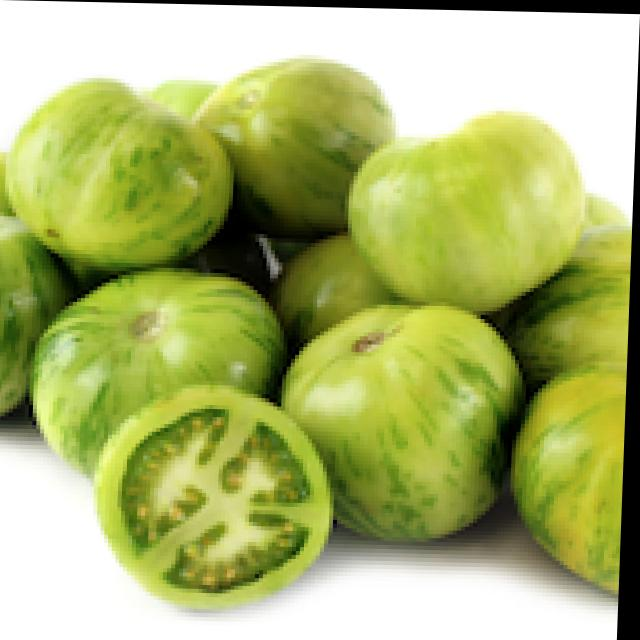yesil: (0, 0, 640, 606)
